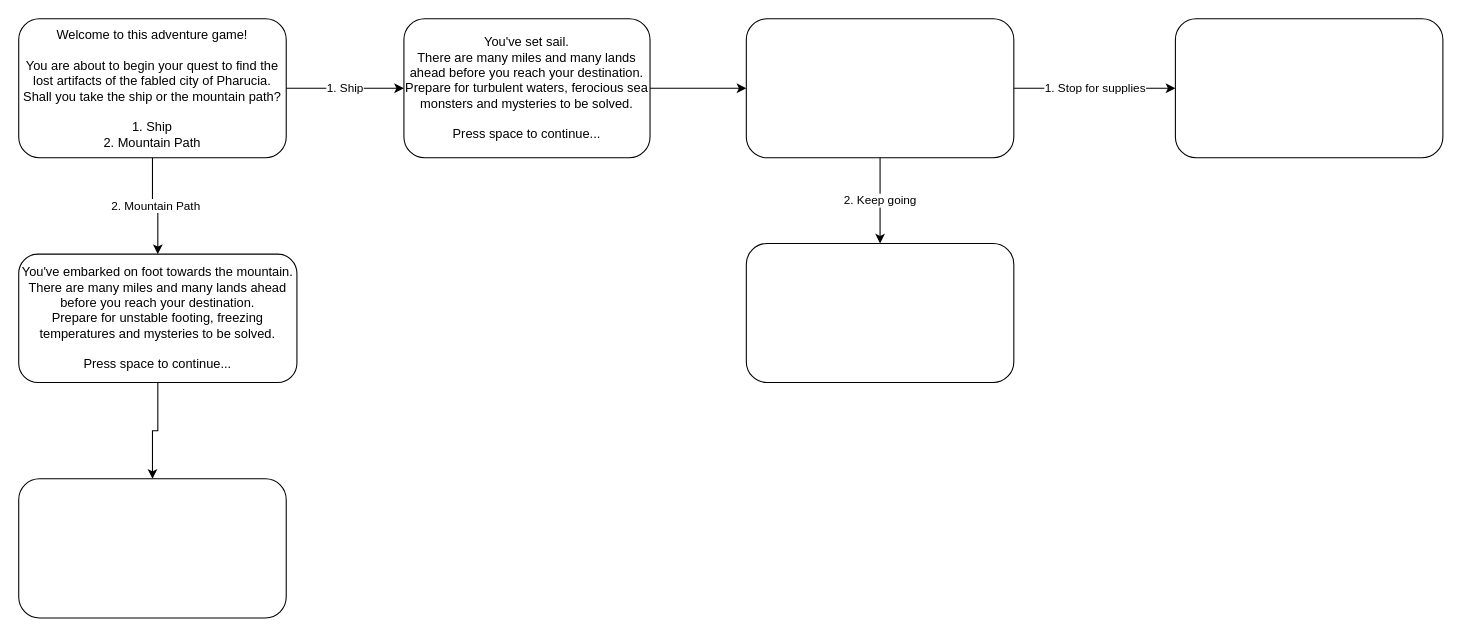
Image size: 1462x637. Some labels were removed from this diagram. The shapes that lost their labels are listed below. From the top down, each one's box as (x1, y1, x2, y2) in pixels, then its label:
(745, 18, 1014, 158): You've come to a port! 1. Stop for supplies 2. Keep going
(18, 478, 286, 618): You've come to a small village! 1. Stop for supplies 2. Keep Going
